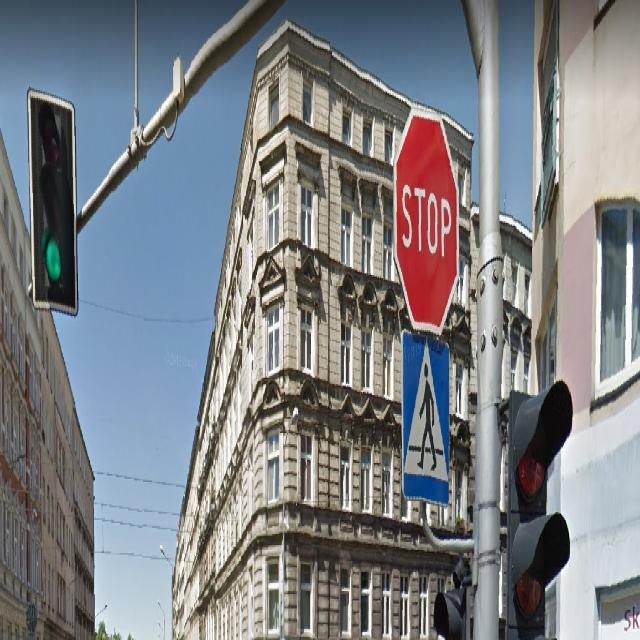Przejscie dla pieszych: (401, 332, 449, 507)
Stop: (394, 107, 458, 330)
